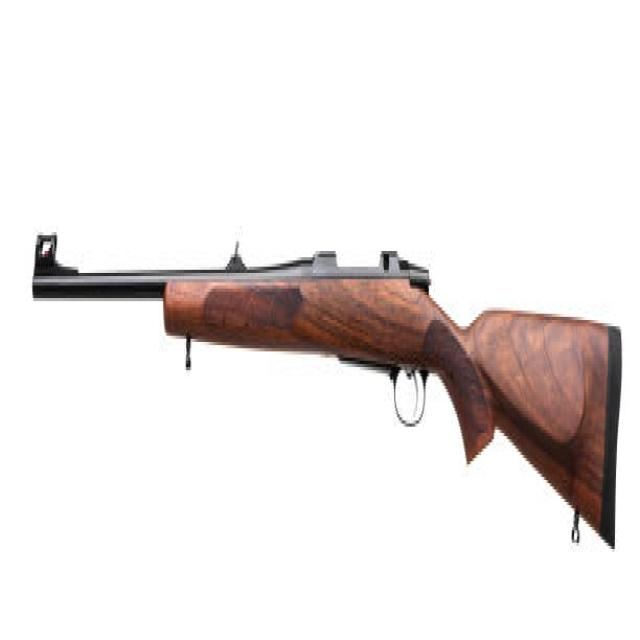rifle: (22, 203, 626, 580)
